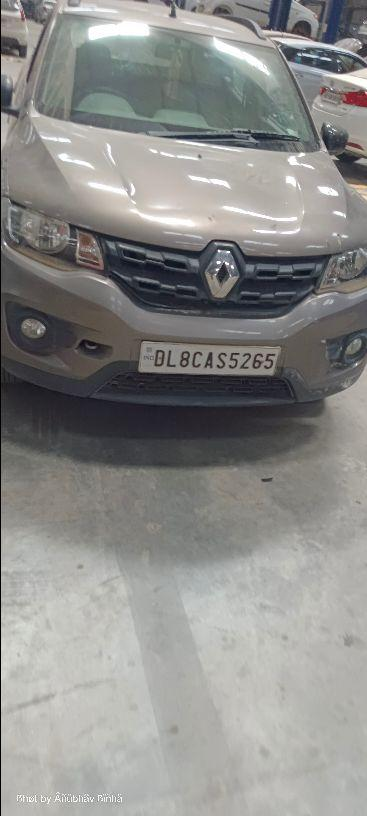license_plate: (136, 339, 281, 377)
